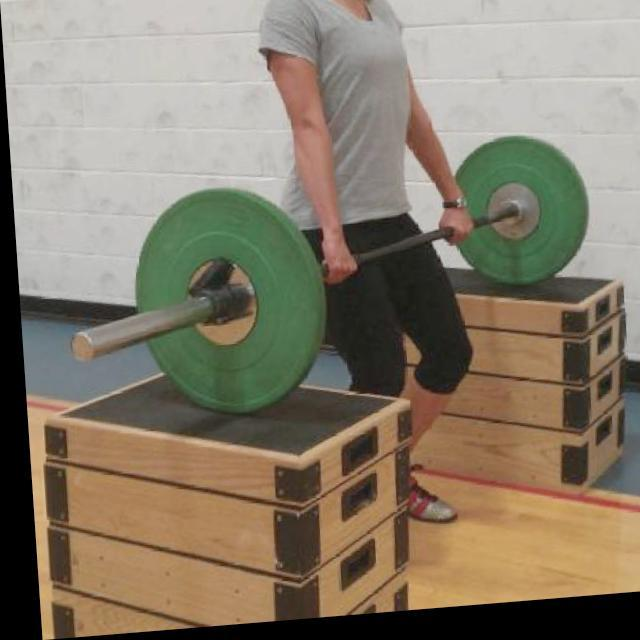barbell: (55, 180, 329, 432)
